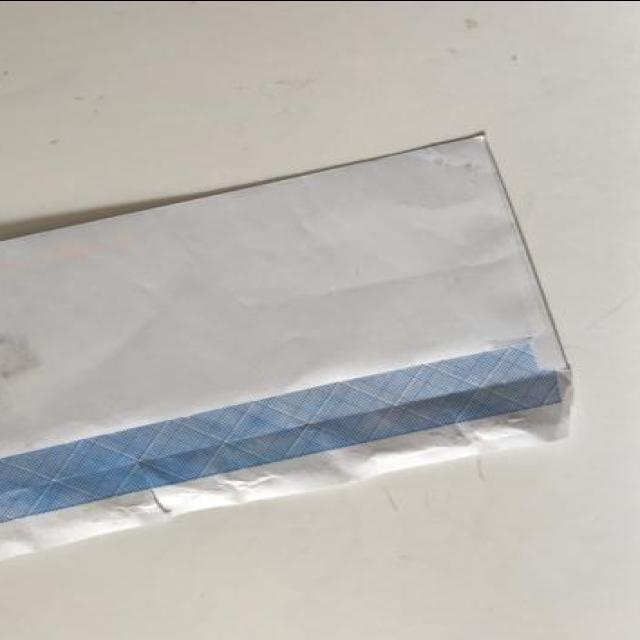kertas: (0, 131, 577, 561)
